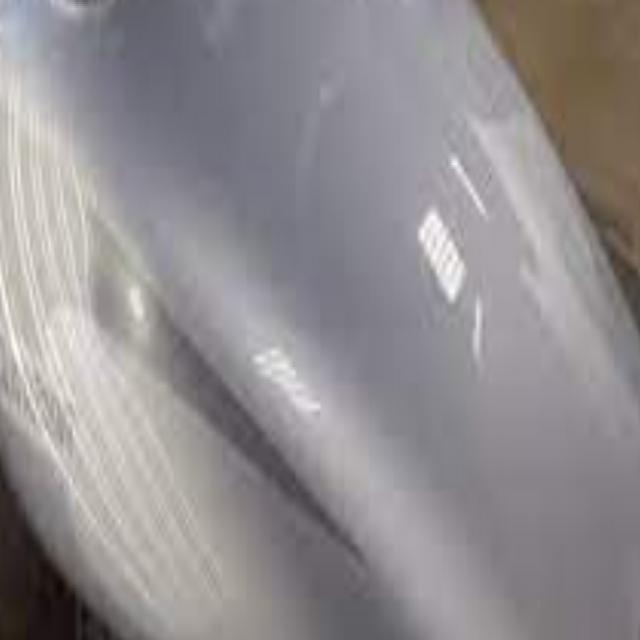dents: (70, 256, 172, 364)
